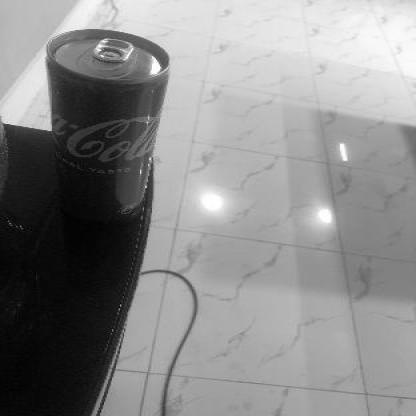alumunium_can: (40, 24, 175, 222)
